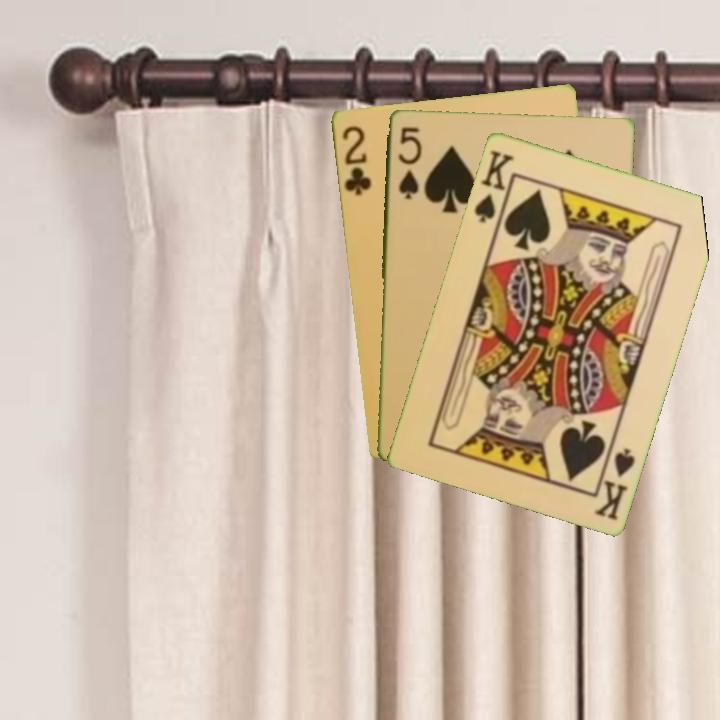2c: (338, 122, 374, 198)
5s: (394, 123, 424, 202)
Ks: (590, 437, 638, 523), (470, 146, 517, 229)
